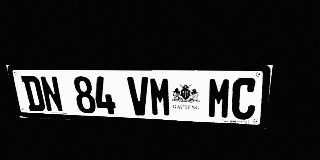4: (92, 76, 116, 114)
8: (72, 76, 97, 114)
C: (231, 78, 258, 120)
D: (21, 76, 46, 112)
M: (207, 77, 232, 119), (149, 77, 172, 117)
N: (39, 76, 64, 112)
V: (127, 77, 150, 116)
